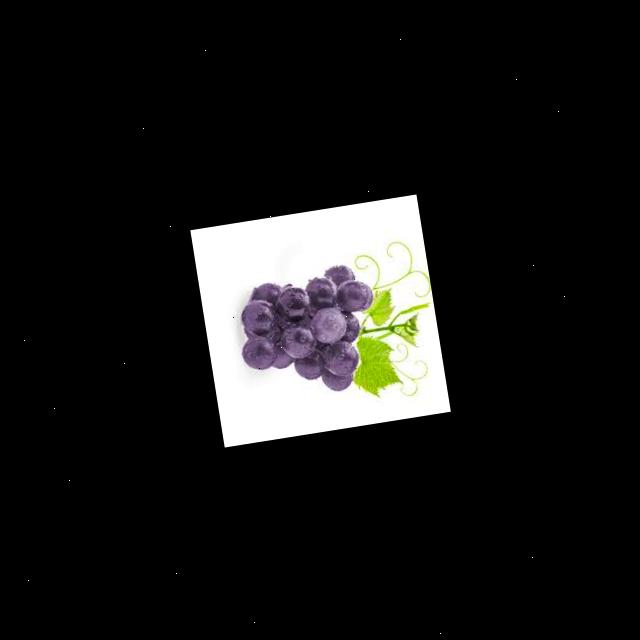grape: (230, 259, 387, 404)
